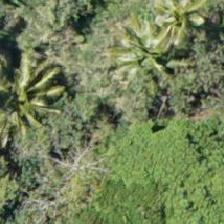coconut_tree: (102, 2, 192, 92), (0, 51, 67, 141)
